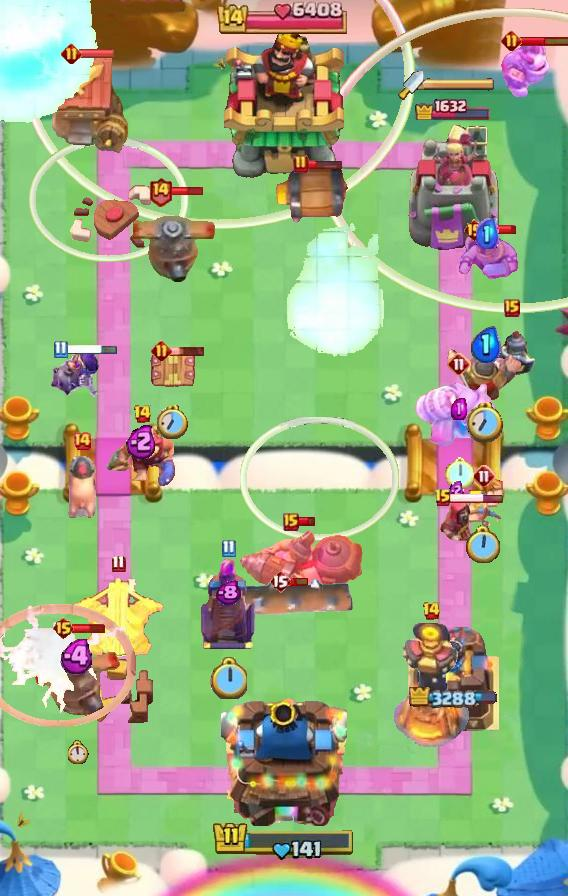archer: (465, 479, 503, 529)
bar: (406, 122, 500, 256)
barbarian-evolution: (0, 605, 136, 728)
bowler: (438, 498, 474, 544)
clock: (212, 820, 356, 862), (217, 0, 351, 34)
dark-prince: (30, 633, 126, 723), (133, 195, 217, 283)
electro-dragon: (392, 622, 470, 750)
electro-spirit: (59, 639, 97, 673), (126, 423, 158, 459), (471, 326, 501, 363), (477, 219, 500, 250), (215, 580, 241, 606), (451, 398, 467, 420), (449, 479, 463, 501)
elixir: (209, 657, 246, 699), (466, 525, 502, 567), (467, 402, 503, 442), (157, 405, 187, 439), (446, 456, 474, 489), (67, 740, 89, 764)
elixir-golem-small: (498, 37, 552, 97)
emote: (65, 343, 119, 357), (450, 493, 504, 504), (520, 35, 568, 47), (170, 345, 207, 357), (170, 185, 206, 197), (309, 158, 344, 170), (79, 49, 115, 60), (483, 224, 517, 235), (72, 623, 106, 634), (289, 577, 309, 588), (296, 516, 315, 527)
executioner: (66, 456, 98, 520)
fireball: (106, 429, 178, 489)
firecracker: (446, 346, 524, 400)
goblin-ball: (47, 349, 101, 399)
goblin-brawler: (147, 347, 197, 393)
goblin-giant: (456, 231, 518, 279)
ice-spirit-evolution-symbol: (198, 559, 258, 651)
king-tower: (224, 29, 344, 181), (221, 690, 347, 826)
king-tower-bar: (424, 77, 496, 91)
lava-pup: (69, 578, 167, 660)
mega-knight: (282, 222, 385, 359), (0, 1, 100, 128)
minion: (235, 577, 357, 621)
night-witch: (414, 378, 504, 450)
princess: (487, 320, 537, 378)
queen-tower: (407, 627, 499, 731)
selected: (409, 686, 497, 710), (414, 96, 492, 120)
sparky: (42, 57, 128, 155)
text: (147, 177, 172, 208), (447, 352, 471, 376), (472, 464, 496, 488), (462, 218, 485, 242), (52, 616, 75, 640), (269, 569, 291, 593), (501, 29, 522, 51), (62, 43, 83, 65), (151, 339, 172, 361), (132, 404, 152, 424), (72, 431, 92, 451), (422, 601, 441, 621), (434, 488, 452, 508), (293, 154, 309, 174), (504, 299, 520, 317), (283, 513, 299, 531), (110, 554, 125, 573), (220, 539, 235, 557), (53, 341, 67, 359)
the-log: (274, 165, 354, 225)
wizard: (239, 526, 365, 600)
